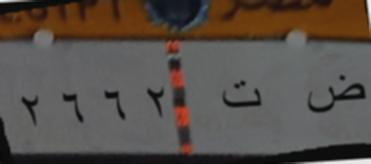2: (142, 84, 169, 125), (17, 91, 45, 129)
6: (58, 87, 88, 130), (102, 86, 129, 130)
daad: (303, 70, 366, 121)
taa: (217, 76, 264, 114)
